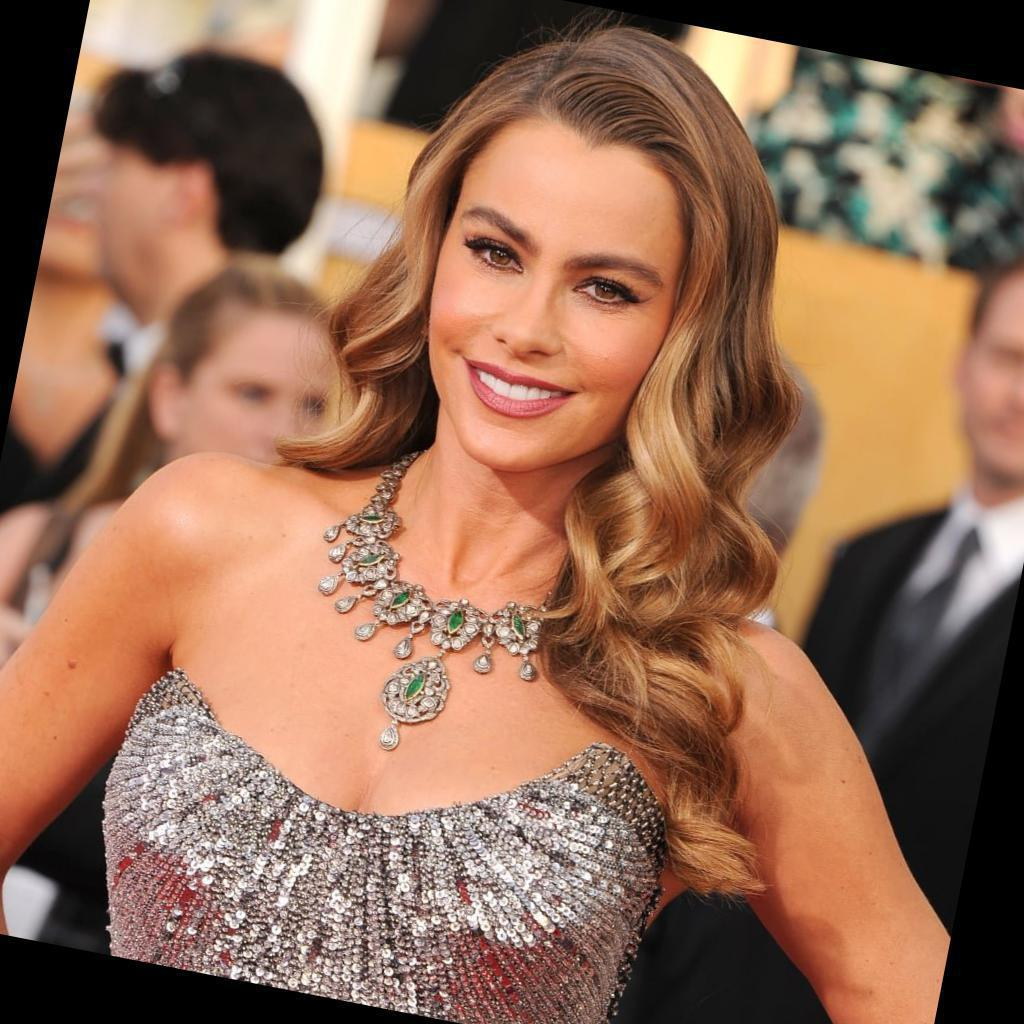Sober: (443, 166, 670, 451)
